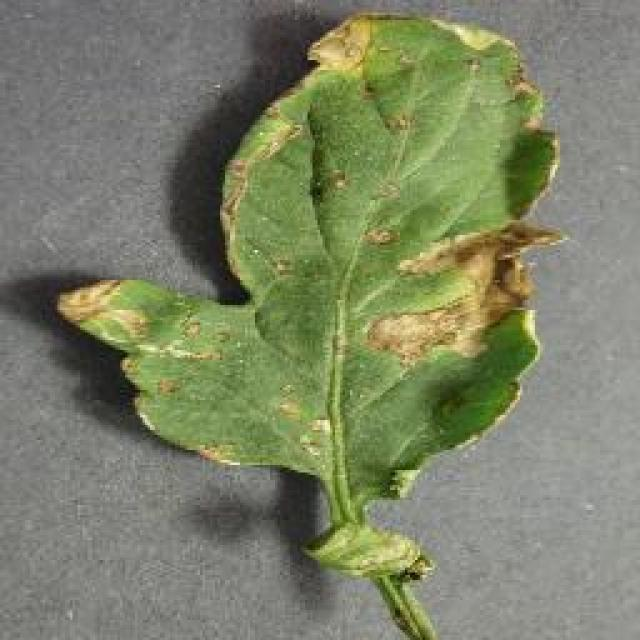Tomato bacterial spot leaf: (57, 8, 570, 502)
